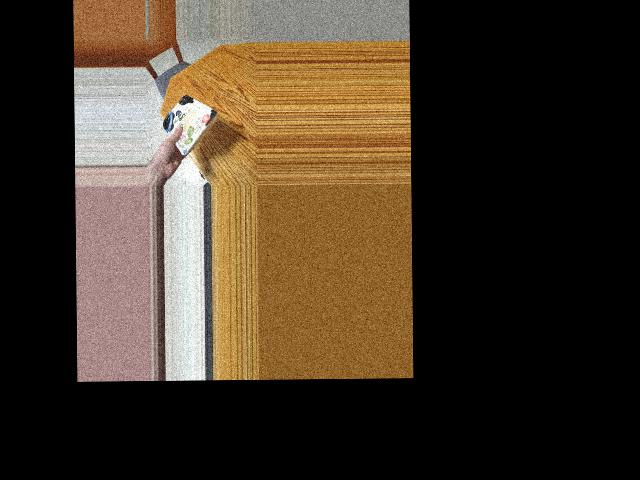cheese: (168, 94, 213, 147)
